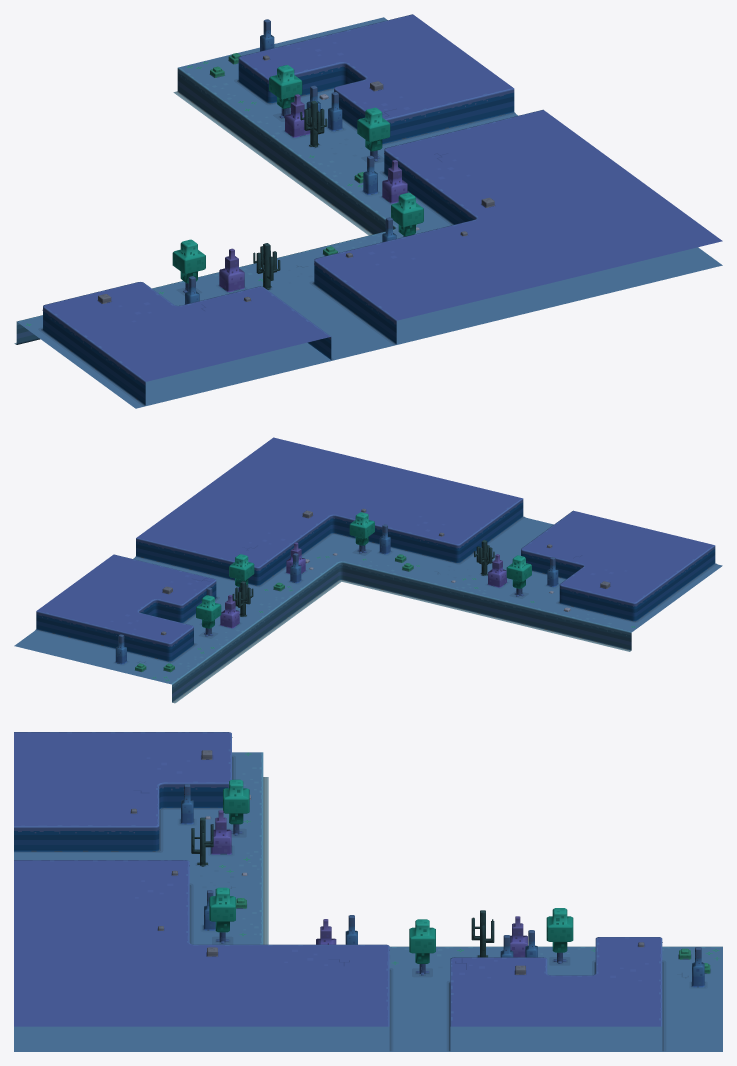
The model's file is C_mountain2_out_LU.fbx.
3 views of the same model, one above another, from view 1: azimuth 30°, elevation 25°; view 2: azimuth 150°, elevation 25°; view 3: azimuth 270°, elevation 25° (orthographic). The views are drawn at different scales.
Parts seen in each view (by area): view 1: C_mountain2_out_LU; view 2: C_mountain2_out_LU; view 3: C_mountain2_out_LU.
Part boxes in pixels (<box>): C_mountain2_out_LU: <box>14,14,722,408</box>; C_mountain2_out_LU: <box>14,437,722,703</box>; C_mountain2_out_LU: <box>14,732,722,1051</box>.
Bounding box in the file's own units: 117 × 13.92 × 117.
